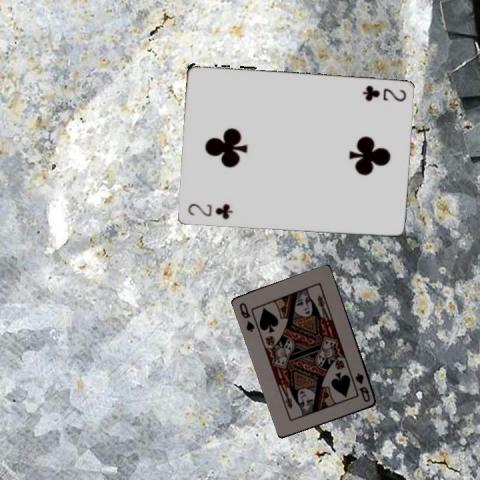2c: (185, 201, 234, 221), (360, 82, 408, 100)
Qs: (353, 370, 372, 404), (237, 300, 256, 333)
